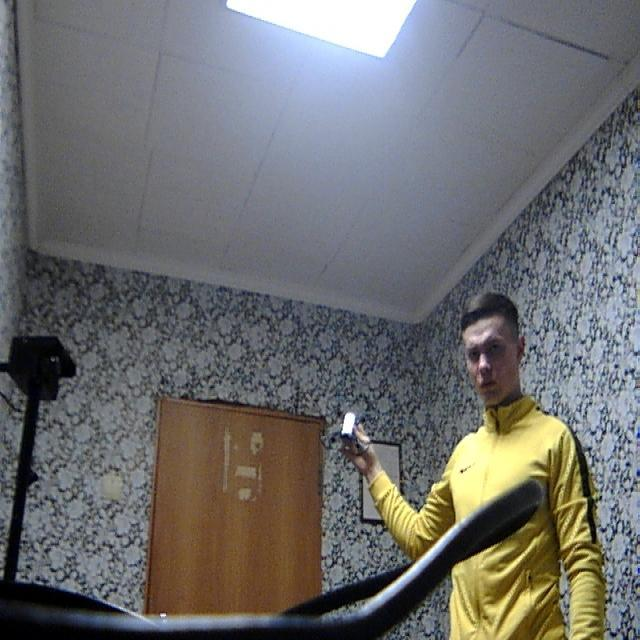drone: (314, 386, 376, 458)
